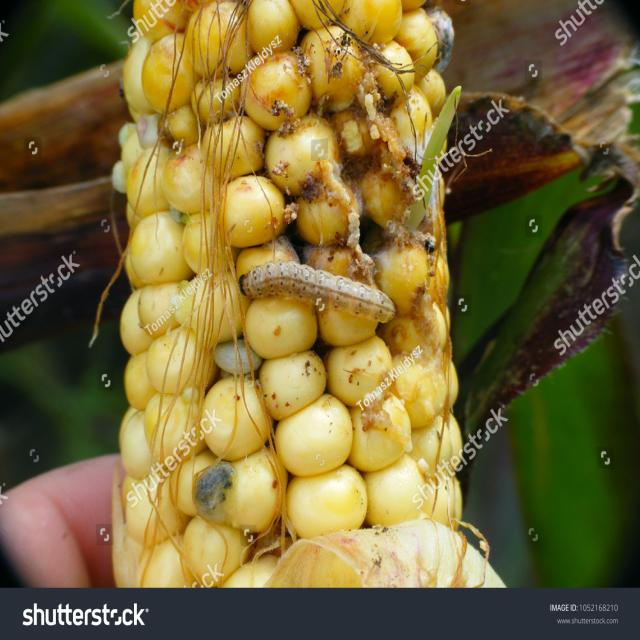cornborer-Larva-: (224, 255, 412, 338)
